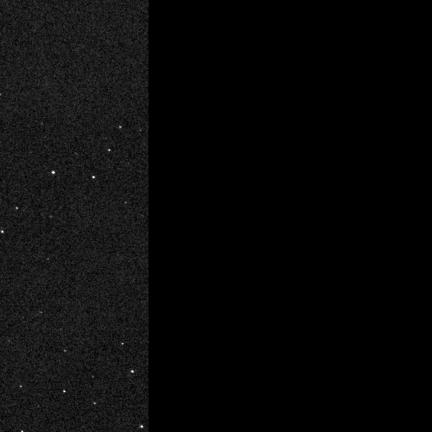blob: (52, 171, 56, 175), (92, 176, 96, 179), (131, 370, 135, 373), (108, 149, 111, 152), (63, 390, 66, 393)
